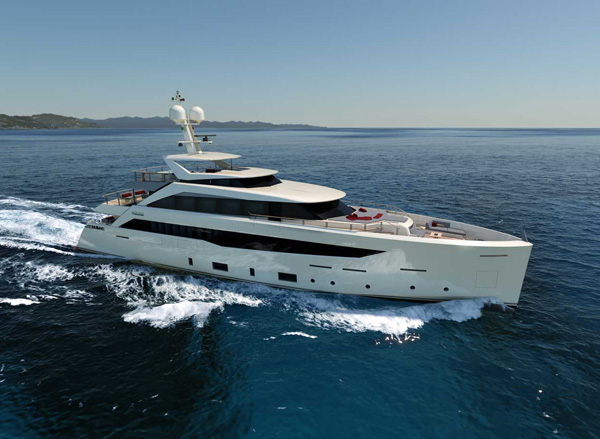yacht: (75, 88, 537, 311)
